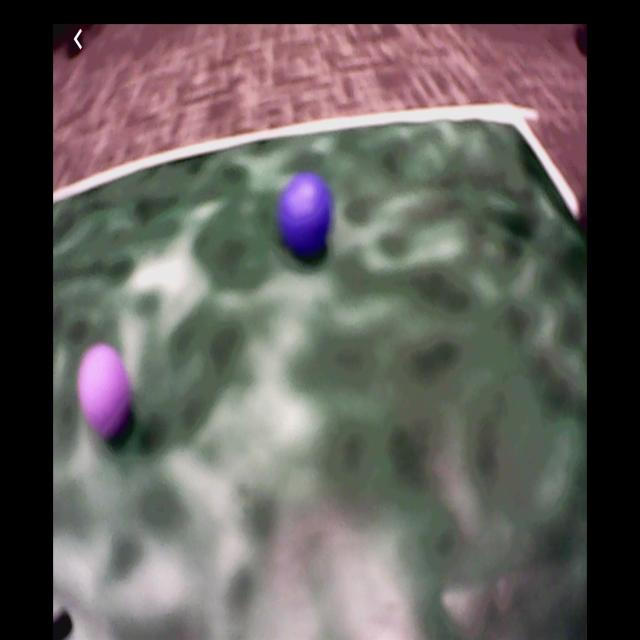ball: (81, 346, 129, 434), (281, 176, 332, 254)
